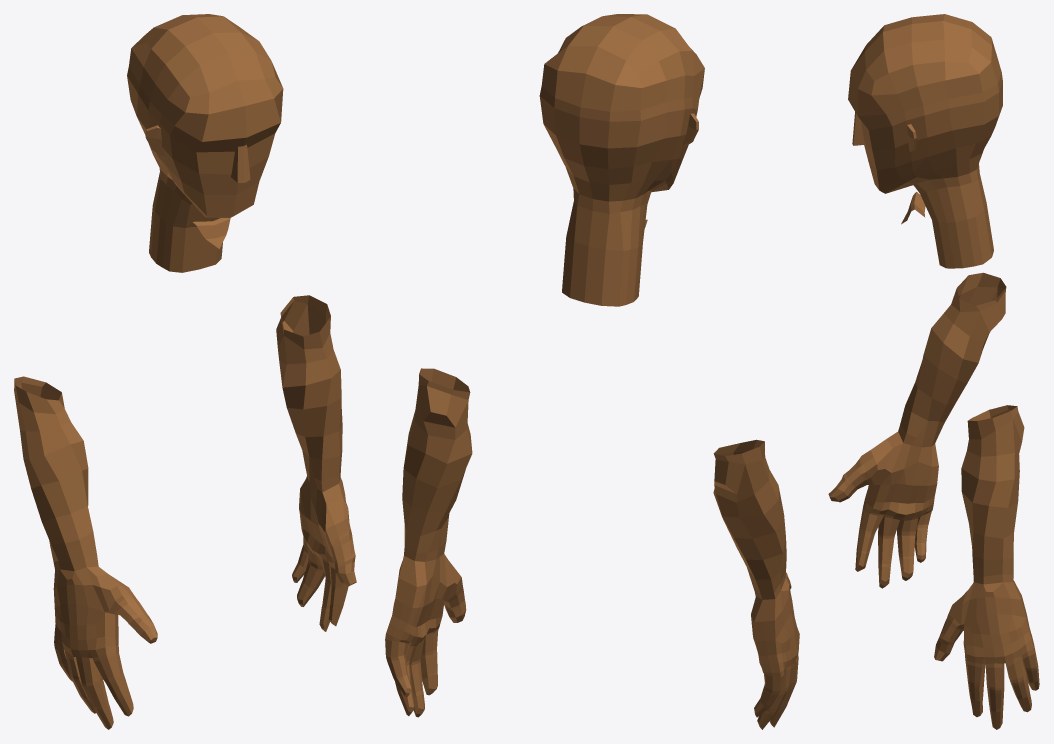
Rendered from Skin_001.obj.
3 views of the same model, side by side, from view 1: azimuth 30°, elevation 25°; view 2: azimuth 150°, elevation 25°; view 3: azimuth 270°, elevation 25° (orthographic). The views are drawn at different scales.
Bounding box in the file's own units: 0.5697 × 1.08 × 0.326.
